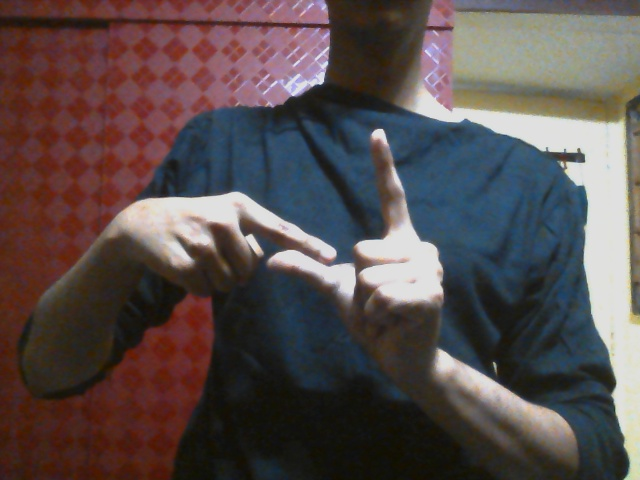J: (119, 126, 446, 368)
